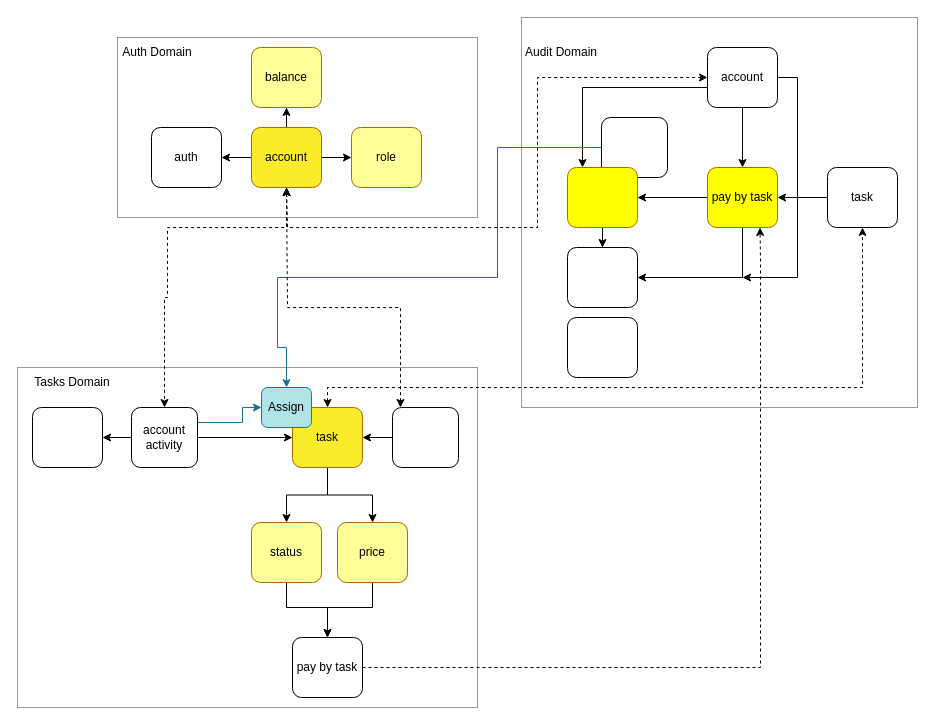
This 935x725 diagram has some shape labels left out. The shapes that lost their labels are listed below. From the top down, each one's centre as x and y in pixels, then its label:
At point 634,147: "periodic calculate".
At point 602,197: "pay by day".
At point 602,277: "dash accounting".
At point 602,347: "dash analytics".
At point 67,437: "dash".
At point 425,437: "account data".
